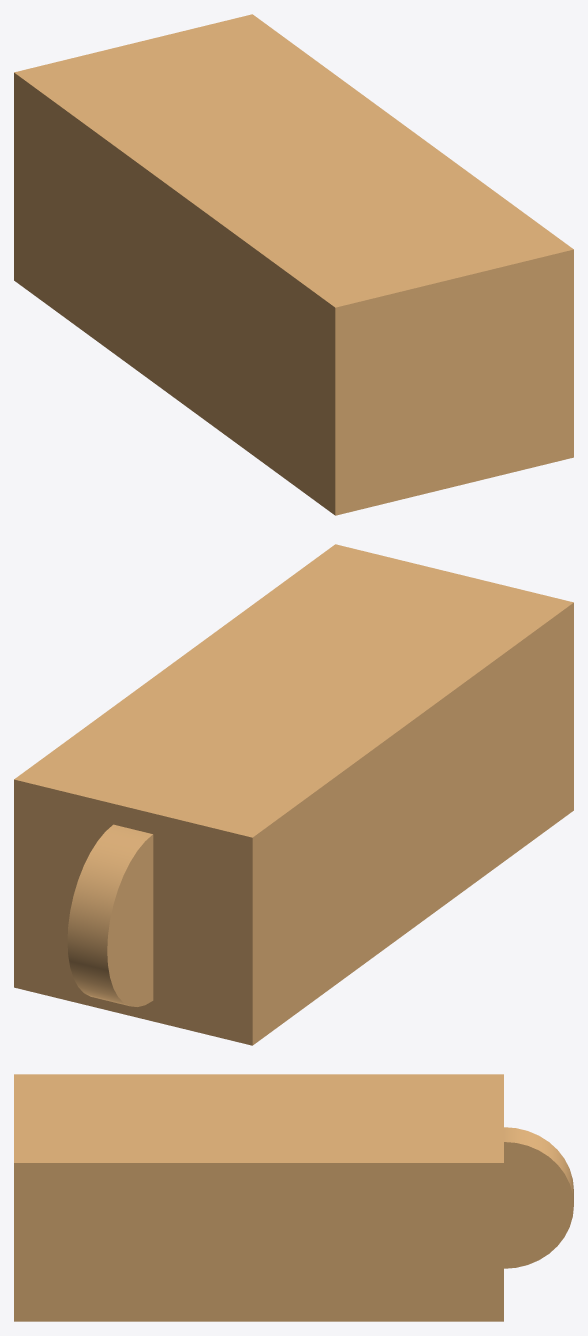
Rendered from 2025Arm_sim.glb.
The picture shows the model from 3 angles, top to bottom: view 1: azimuth 30°, elevation 25°; view 2: azimuth 150°, elevation 25°; view 3: azimuth 270°, elevation 25°; orthographic projection. The views are drawn at different scales.
Visible parts, largest first — view 1: Arm Segment; view 2: Arm Segment; view 3: Arm Segment.
Boxes of the visible parts, bbox=[...] form: Arm Segment: bbox=[14, 14, 573, 515]; Arm Segment: bbox=[14, 544, 573, 1045]; Arm Segment: bbox=[14, 1074, 573, 1321].
Size of the model in its own units: 0.1524 by 0.127 by 0.4064.
